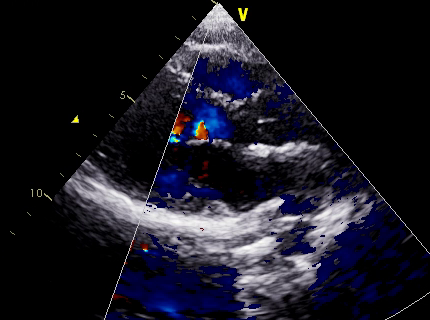MR: (154, 136, 231, 219)
